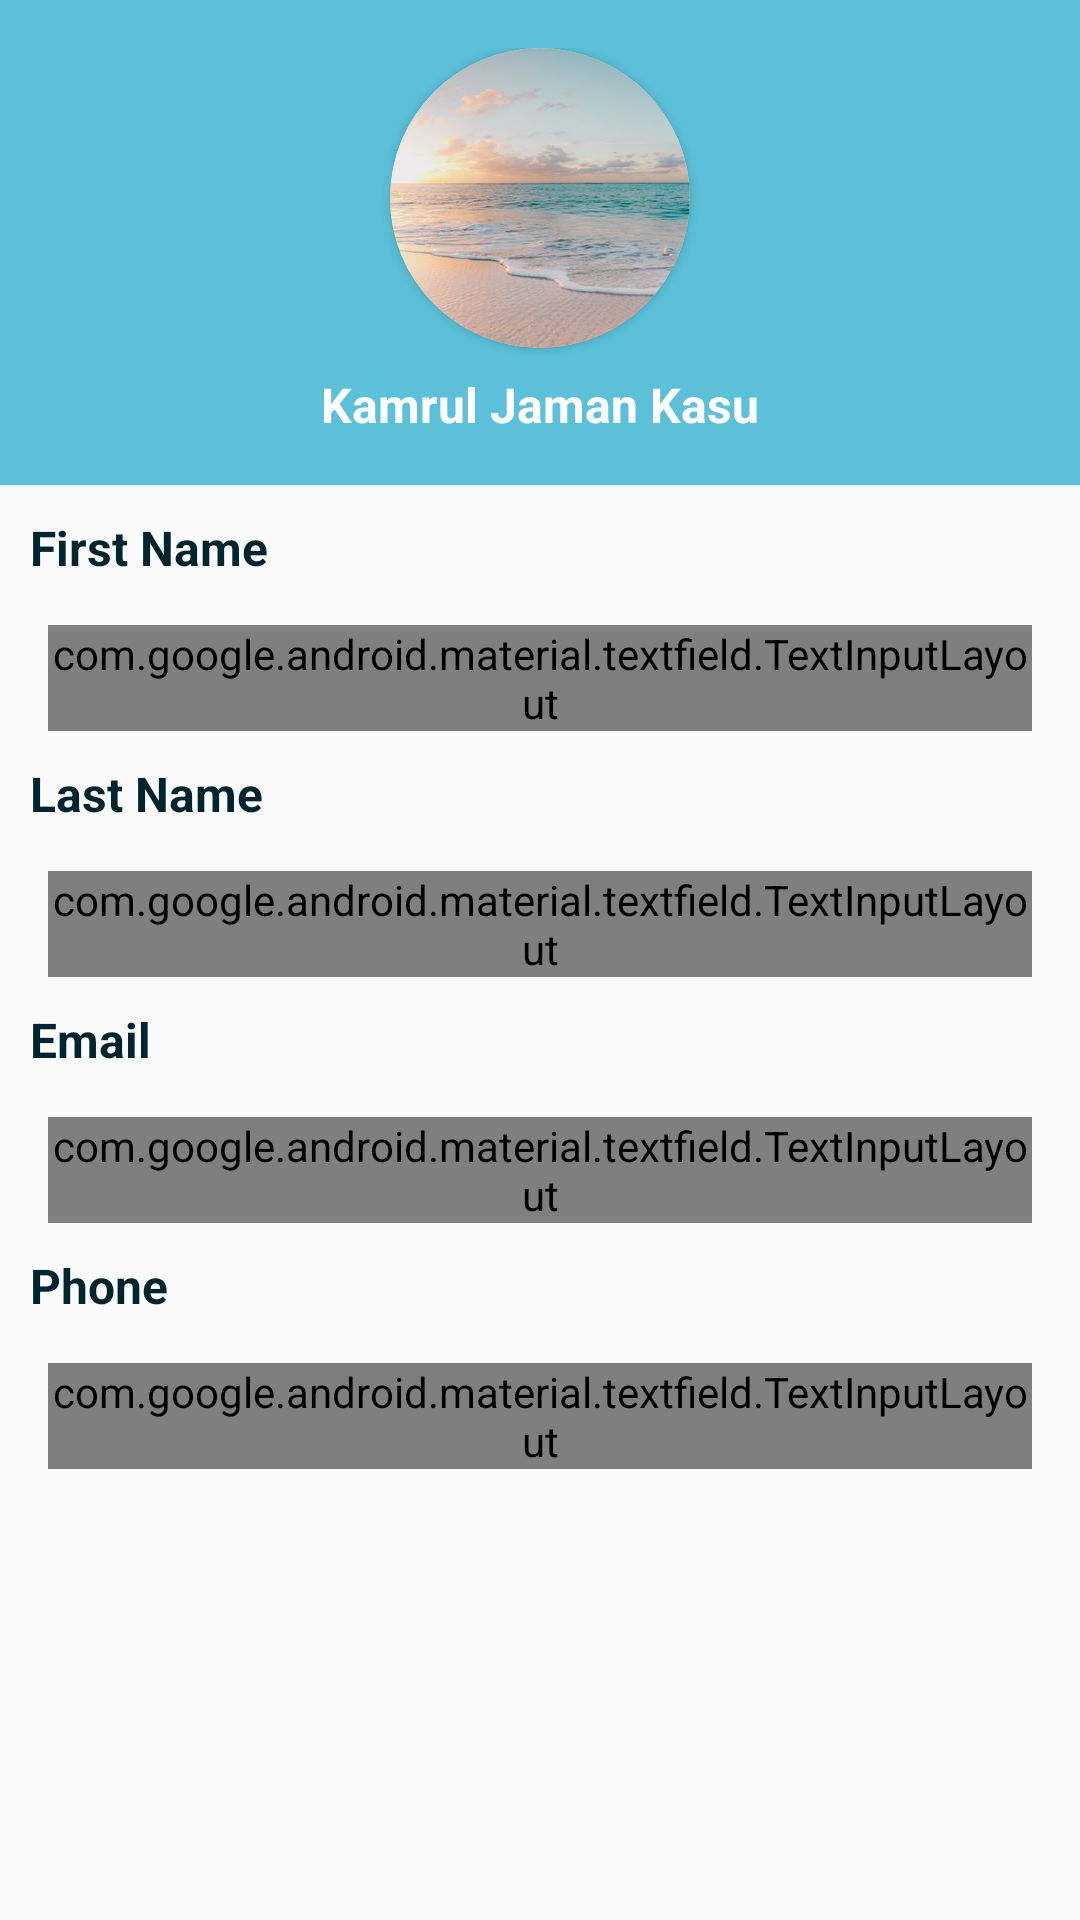

Where to tap for icons on this 1080 × 1920 app screen, as point (x, y):
sea: point (540, 198)
